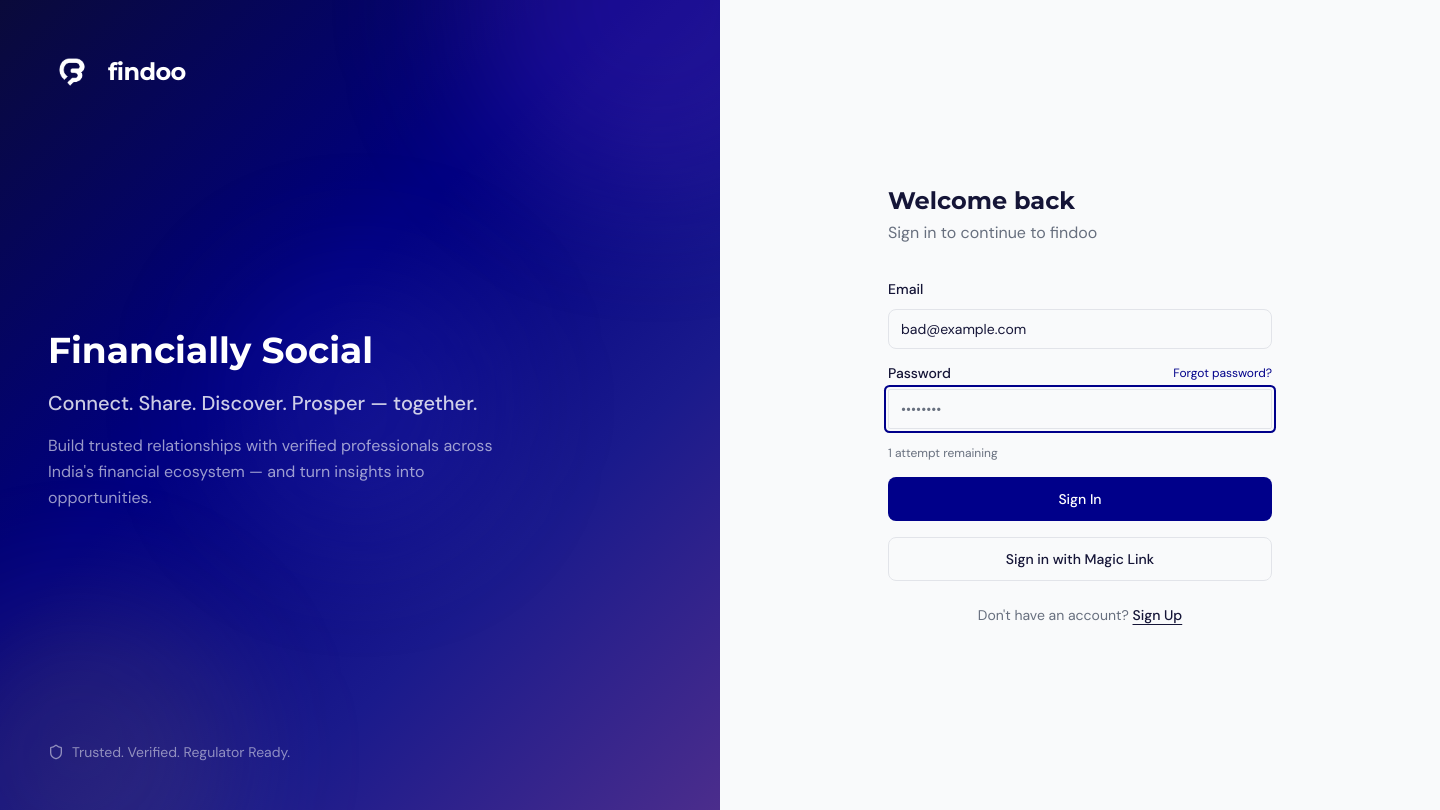
Test: Auth Page Integration › Sign In Flow › shows lockout after max attempts
Earlier steps of the test are not shown.
Type "wrong" into the password field labelled "Password" at (1080,409), box [888,389,1272,429]
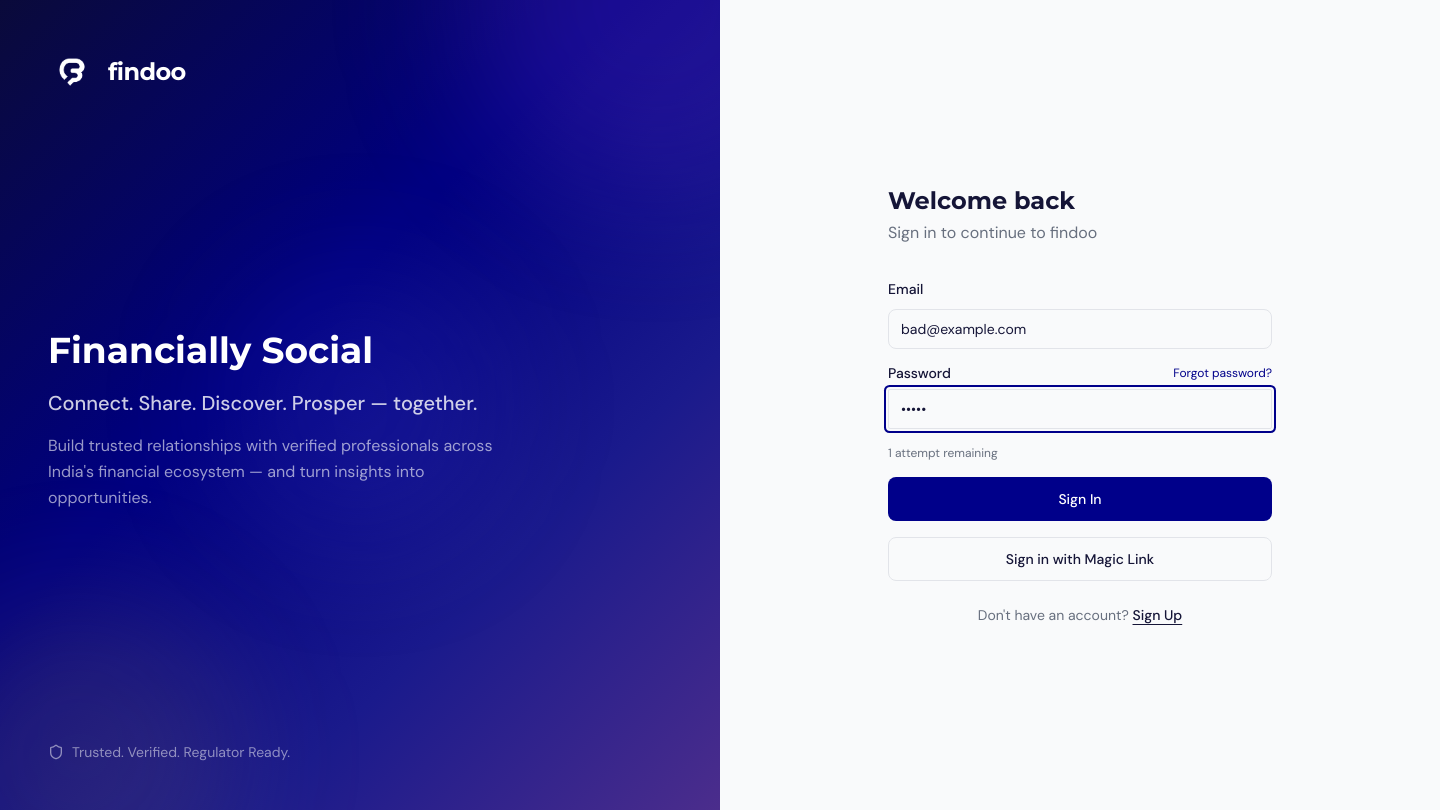
Submit the form "Sign In", box [888,277,1272,581]
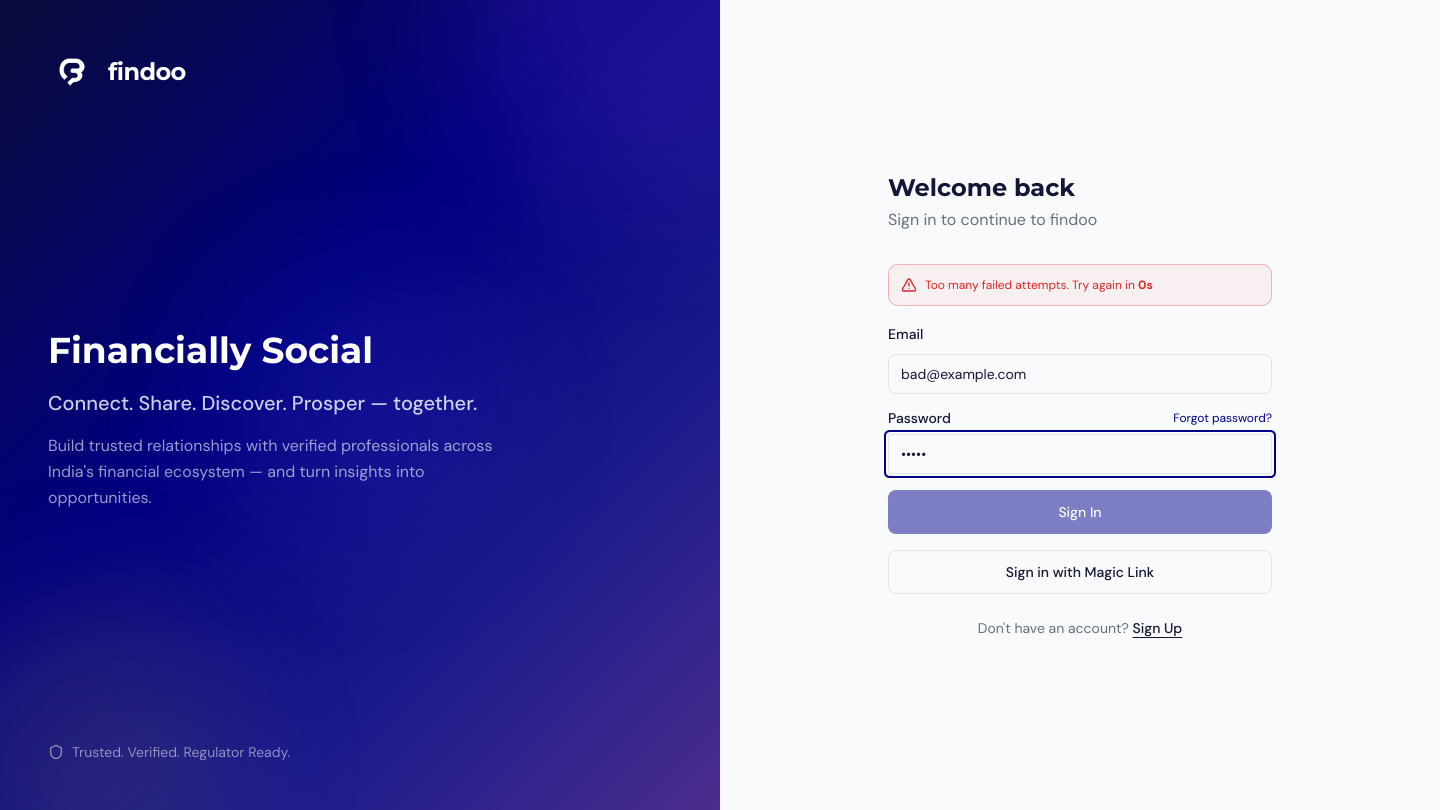
Check: the text "Too many failed attempts. Try again in 0s" is shown, box [925,277,1153,293]
